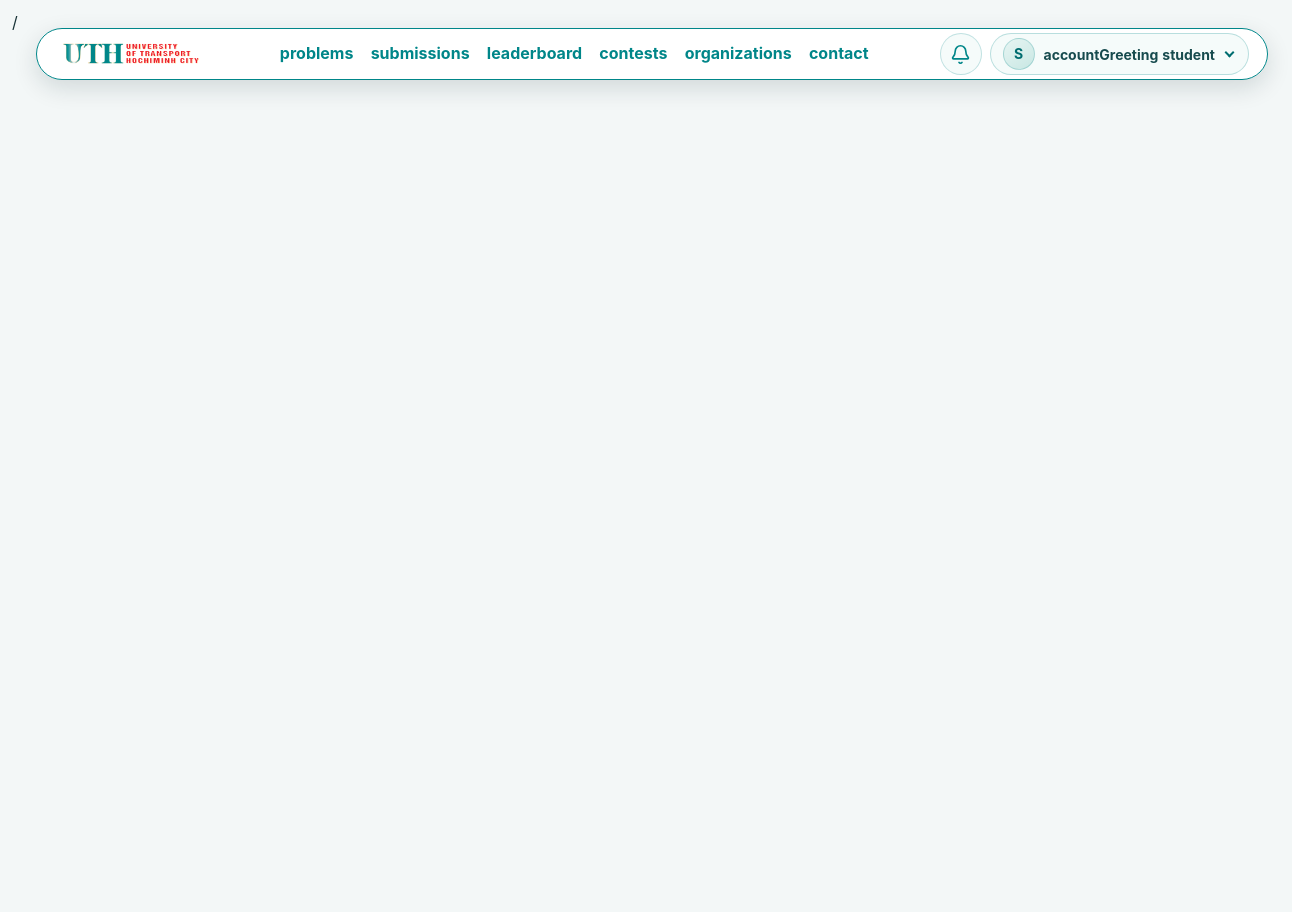
Scenario: SiteHeader appearance controls › closes on outside click and restores focus after Escape
The width and height of the screenshot is (1292, 912).
Later steps or results of the test are not shown.
Click the button with aria-label "accountMenu" at (1119,54), box [990, 33, 1249, 75]
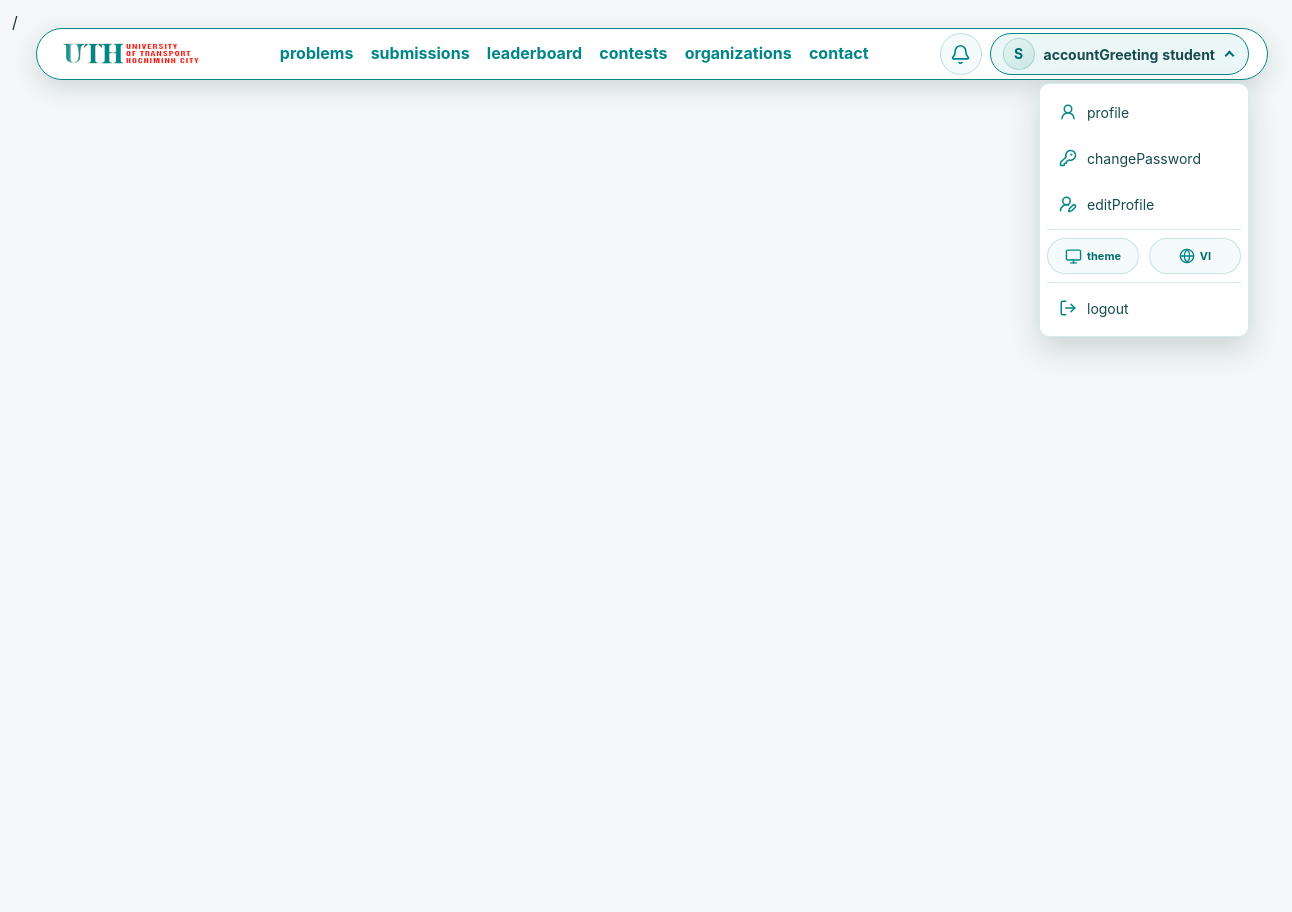
Press the mouse on the element showing "/" at (652,462), box [12, 12, 1291, 911]
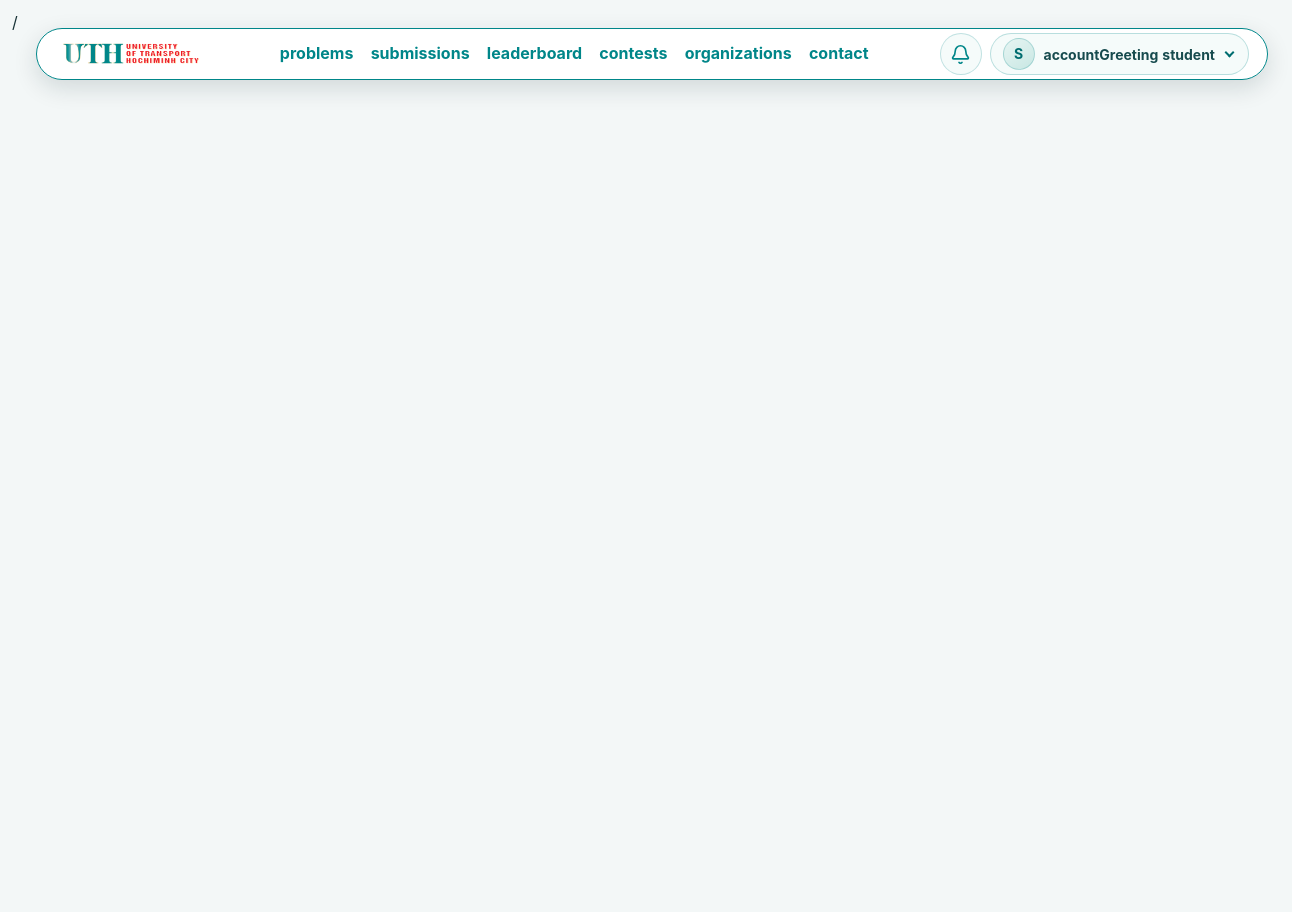
Expected: the button with aria-label "accountMenu" is shown, [990, 33, 1249, 75]
Now the element with id "account-menu" is gone
